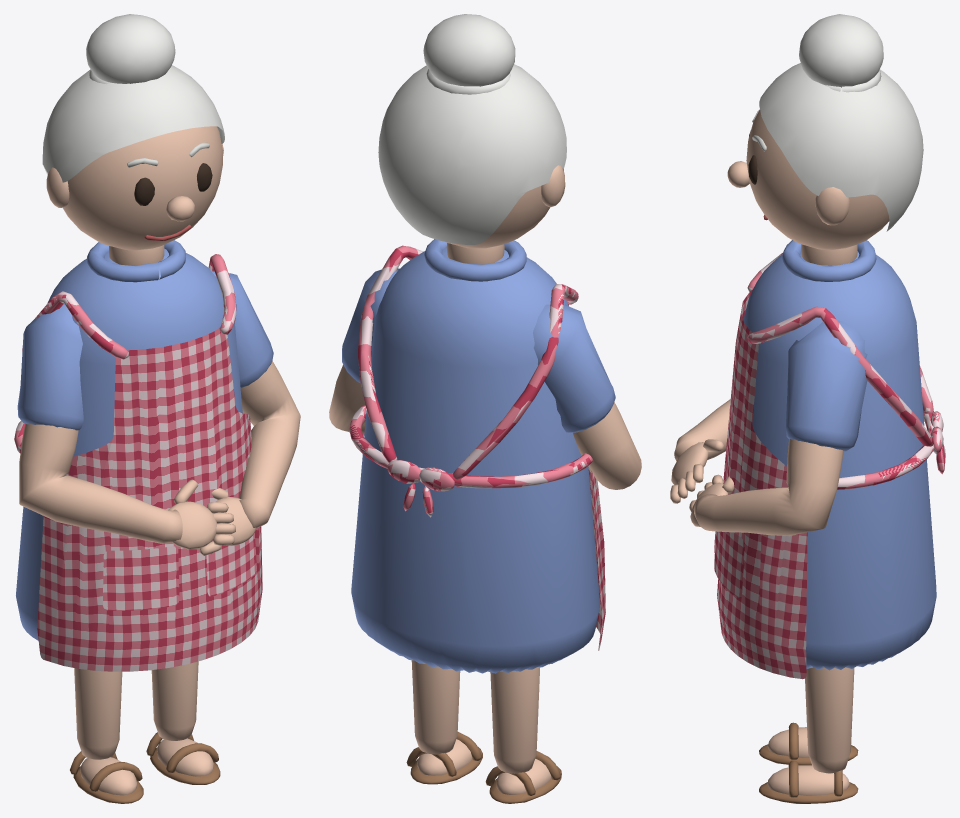
File: anciana.fbx
3 renders of one model, left to right at view 1: azimuth 30°, elevation 25°; view 2: azimuth 150°, elevation 25°; view 3: azimuth 270°, elevation 25°, orthographic. The views are drawn at different scales.
Parts seen in each view (by area): view 1: Anciana_Boca; view 2: Anciana_Boca; view 3: Anciana_Boca.
Boxes of the visible parts, box(x1,y1,x2,y2) form: Anciana_Boca: box(14, 14, 300, 803); Anciana_Boca: box(329, 14, 641, 803); Anciana_Boca: box(670, 14, 945, 803).
Bounding box in the file's own units: 56.59 × 141 × 46.19.
8 materials, 1 textured.
